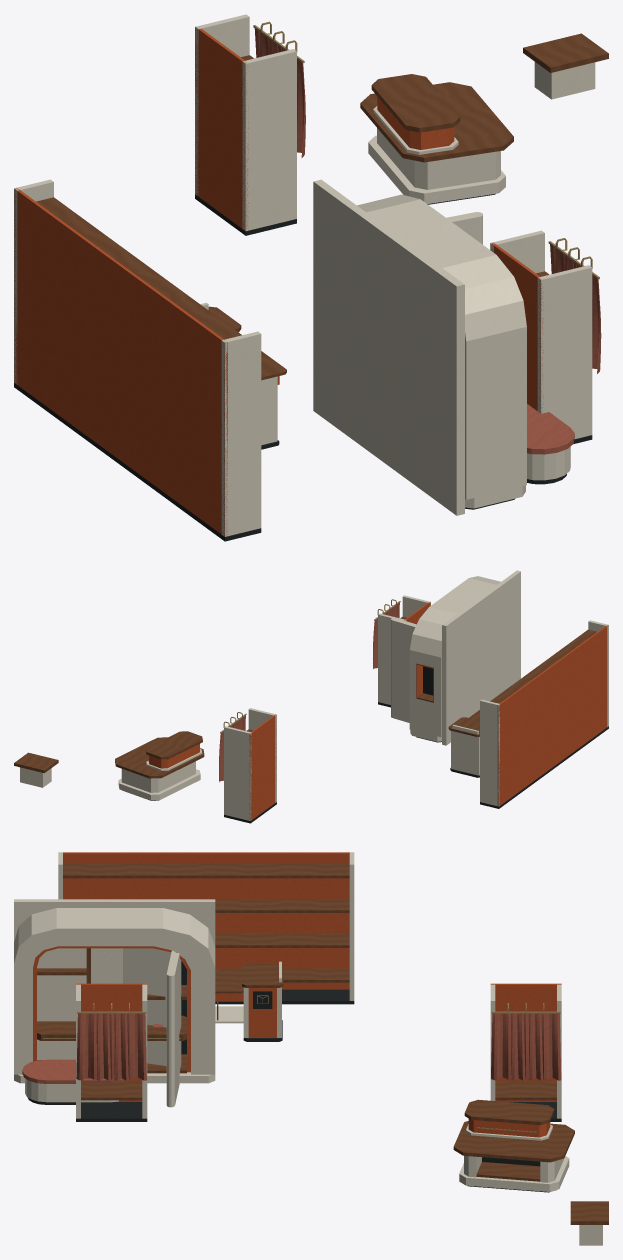
The model's file is SHOP_D09_S72_F366__fitout.glb.
3 renders of one model, top to bottom at view 1: azimuth 30°, elevation 25°; view 2: azimuth 150°, elevation 25°; view 3: azimuth 270°, elevation 25°, orthographic. The views are drawn at different scales.
Visible parts, largest first — view 1: SHOP_D09_S72_F366__fitout__ivory_enamel, SHOP_D09_S72_F366__fitout__retail_terracotta_enamel, SHOP_D09_S72_F366__fitout__warm_walnut, SHOP_D09_S72_F366__fitout__clay_weave, SHOP_D09_S72_F366__fitout__dark_rubber, SHOP_D09_S72_F366__fitout__champagne_metal; view 2: SHOP_D09_S72_F366__fitout__ivory_enamel, SHOP_D09_S72_F366__fitout__retail_terracotta_enamel, SHOP_D09_S72_F366__fitout__warm_walnut, SHOP_D09_S72_F366__fitout__dark_rubber, SHOP_D09_S72_F366__fitout__clay_weave; view 3: SHOP_D09_S72_F366__fitout__ivory_enamel, SHOP_D09_S72_F366__fitout__retail_terracotta_enamel, SHOP_D09_S72_F366__fitout__warm_walnut, SHOP_D09_S72_F366__fitout__clay_weave, SHOP_D09_S72_F366__fitout__dark_rubber, SHOP_D09_S72_F366__fitout__champagne_metal.
Part boxes in pixels (x1=…): SHOP_D09_S72_F366__fitout__ivory_enamel: x1=14, y1=14, x2=595, y2=536; SHOP_D09_S72_F366__fitout__retail_terracotta_enamel: x1=14, y1=26, x2=543, y2=536; SHOP_D09_S72_F366__fitout__warm_walnut: x1=36, y1=33, x2=608, y2=380; SHOP_D09_S72_F366__fitout__clay_weave: x1=254, y1=28, x2=601, y2=454; SHOP_D09_S72_F366__fitout__dark_rubber: x1=14, y1=194, x2=592, y2=541; SHOP_D09_S72_F366__fitout__champagne_metal: x1=253, y1=21, x2=599, y2=279; SHOP_D09_S72_F366__fitout__ivory_enamel: x1=20, y1=570, x2=608, y2=820; SHOP_D09_S72_F366__fitout__retail_terracotta_enamel: x1=148, y1=602, x2=608, y2=820; SHOP_D09_S72_F366__fitout__warm_walnut: x1=14, y1=616, x2=597, y2=778; SHOP_D09_S72_F366__fitout__dark_rubber: x1=122, y1=666, x2=608, y2=823; SHOP_D09_S72_F366__fitout__clay_weave: x1=219, y1=603, x2=399, y2=782; SHOP_D09_S72_F366__fitout__ivory_enamel: x1=14, y1=852, x2=602, y2=1245; SHOP_D09_S72_F366__fitout__retail_terracotta_enamel: x1=33, y1=852, x2=561, y2=1137; SHOP_D09_S72_F366__fitout__warm_walnut: x1=37, y1=864, x2=608, y2=1224; SHOP_D09_S72_F366__fitout__clay_weave: x1=22, y1=969, x2=561, y2=1083; SHOP_D09_S72_F366__fitout__dark_rubber: x1=27, y1=961, x2=561, y2=1192; SHOP_D09_S72_F366__fitout__champagne_metal: x1=43, y1=995, x2=560, y2=1132.
Bounding box in the file's own units: 10.25 × 3 × 10.05.
6 materials, 6 textured.
